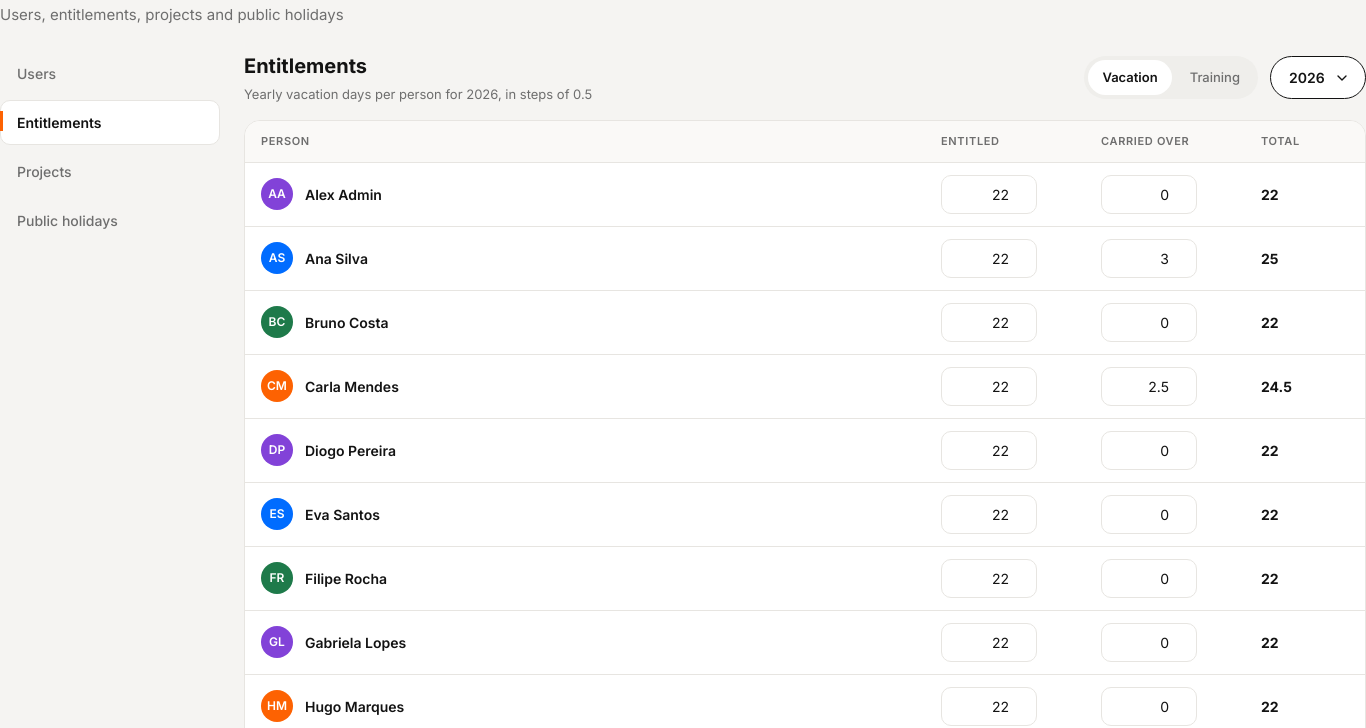
Test: Admin – Entitlements › checks steps of 0.5 before saving
Check: the heading "Entitlements" is shown, box 244,54 -> 367,78
Replace the text in the number field named "Carried over days, Ana Silva" with "2.25": [1149, 258] box 1101,239 -> 1197,278
(page scrolled)
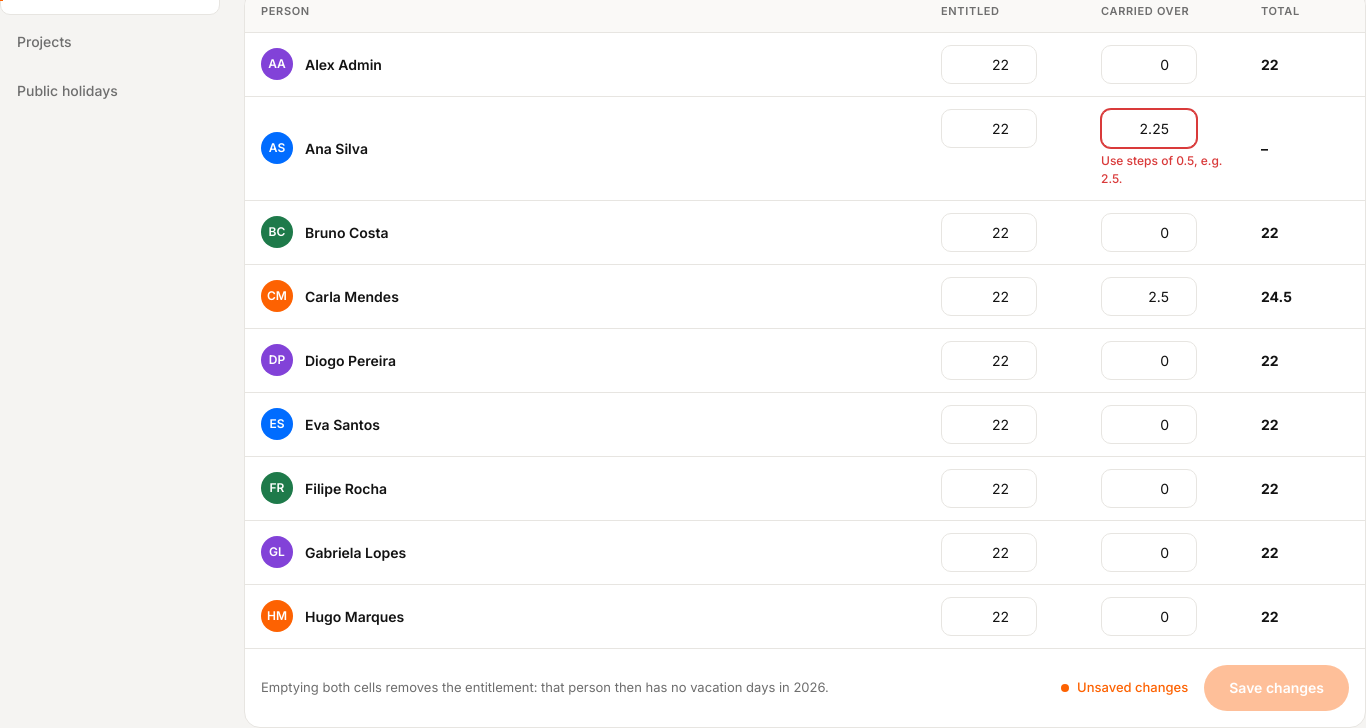
Check: the button "Save changes" is disabled, box 1204,665 -> 1349,711
Check: the cell with class "total" reads "–", box 1261,140 -> 1268,157
